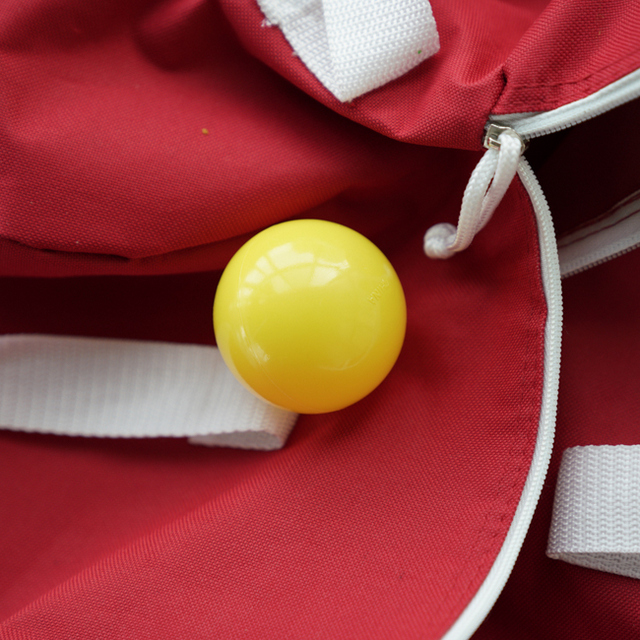Ball: (210, 217, 401, 417)
